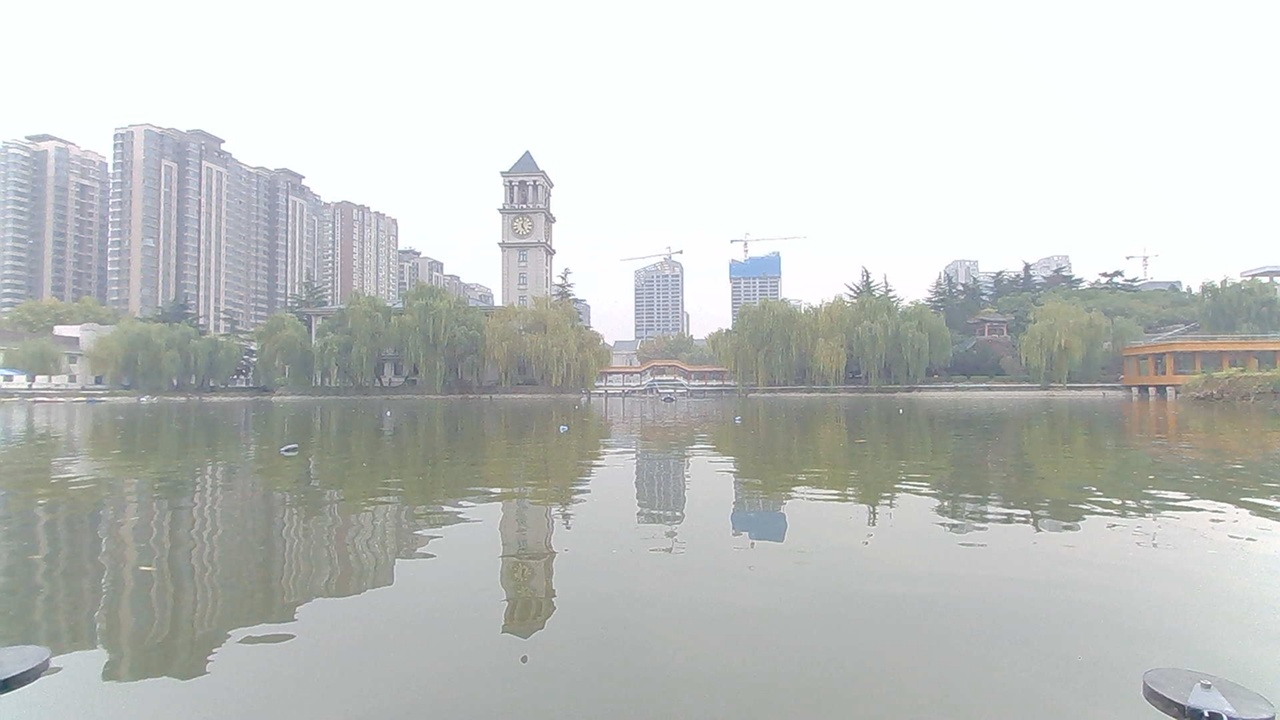bottle: (277, 432, 314, 461), (377, 398, 414, 427), (717, 408, 751, 435), (891, 399, 921, 425), (549, 425, 586, 446), (577, 399, 606, 421)
